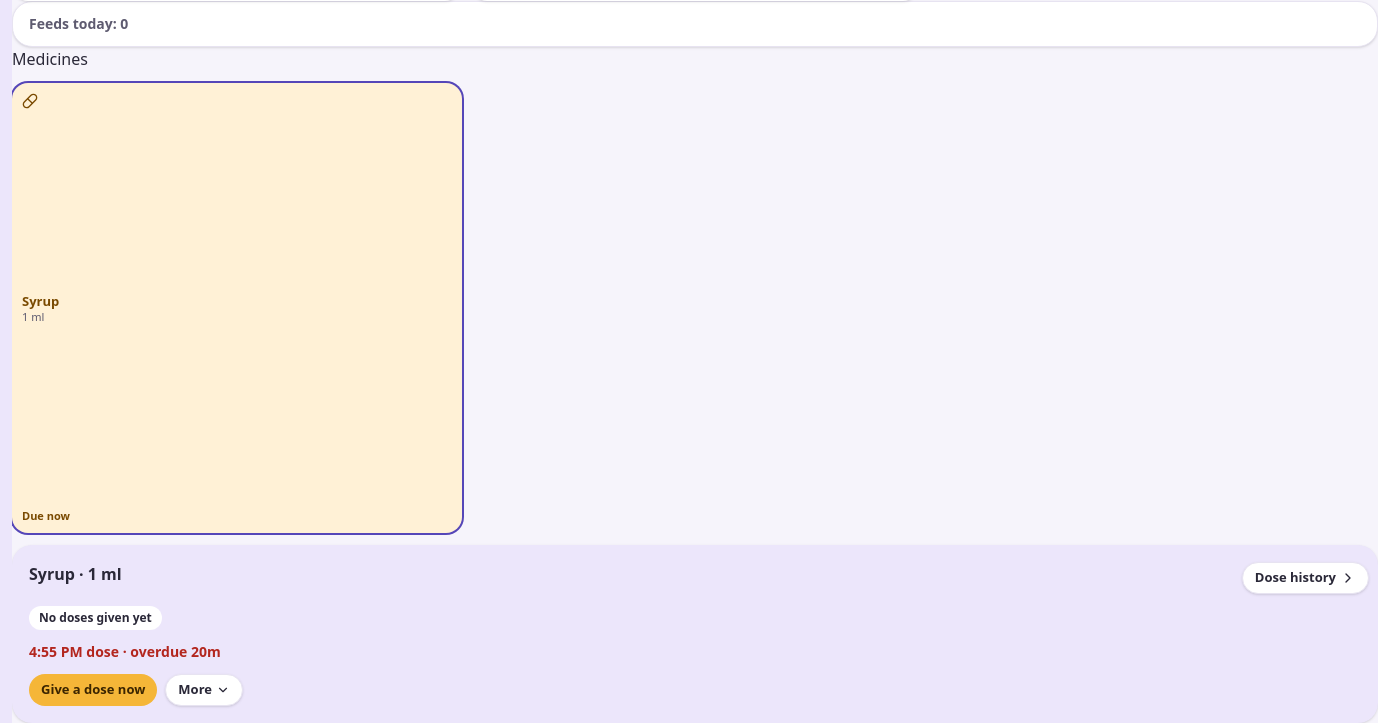
a 409 on a dose already given in full says so
This screenshot has width=1378, height=723.
(page scrolled)
Click the button "Give a dose now".
click(93, 690)  # box top-left (29, 674), bottom-right (157, 706)
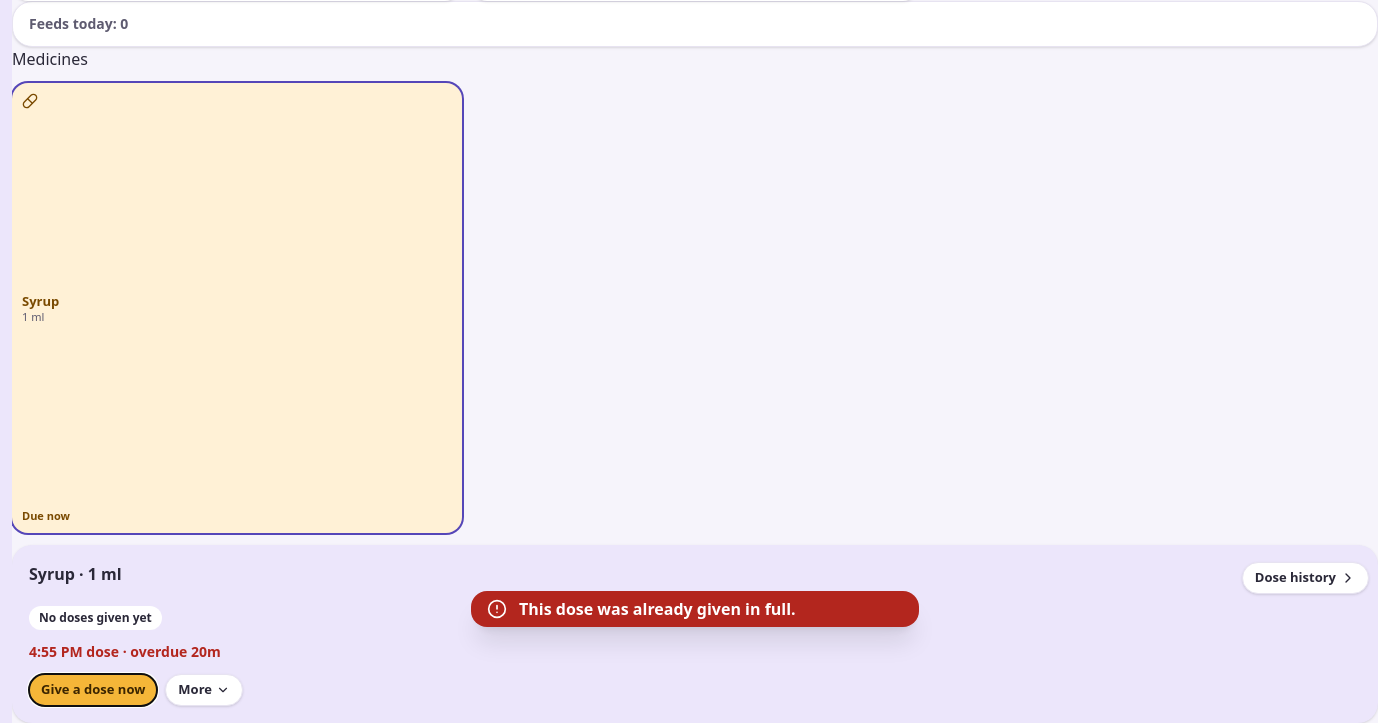
Expected: the text "This dose was already given in full." is shown, top-left (519, 598), bottom-right (796, 620)
